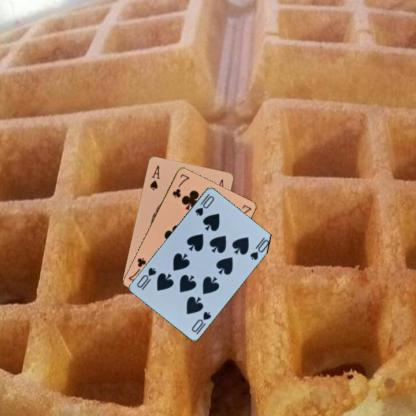10s: (192, 191, 216, 217), (189, 308, 213, 333)
7c: (169, 171, 191, 199)
As: (147, 162, 161, 192)
